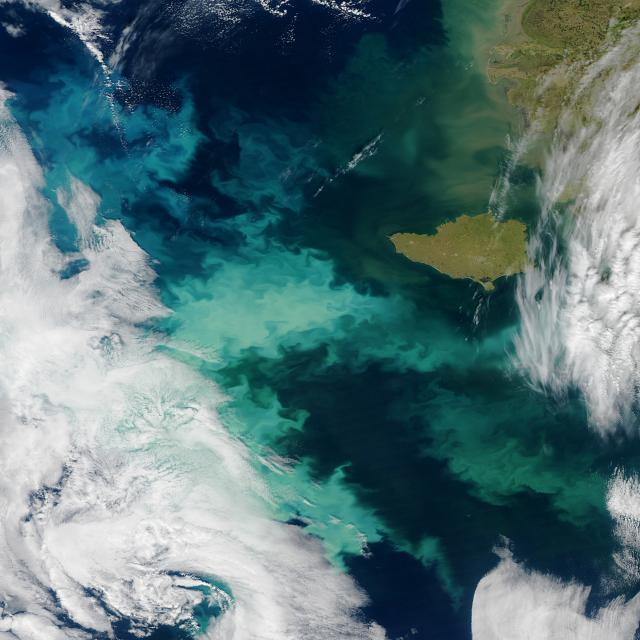algal: (390, 214, 526, 288), (433, 68, 512, 185)
oil spill: (414, 385, 605, 525), (170, 250, 372, 357)
